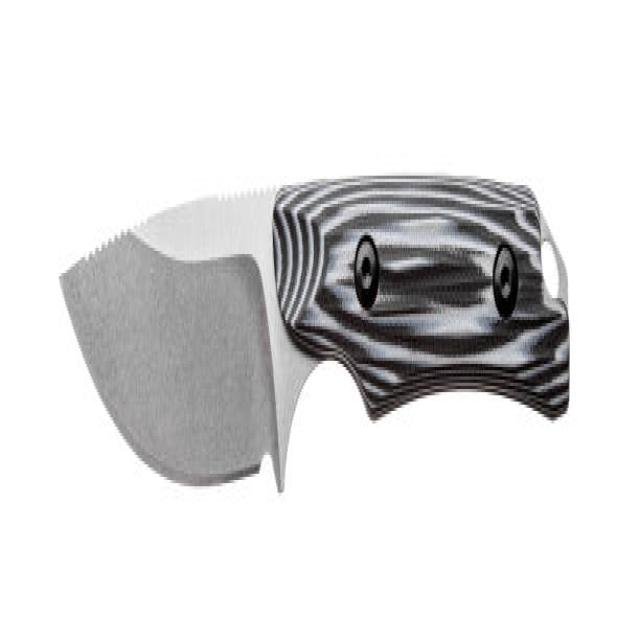knife: (50, 160, 578, 525)
